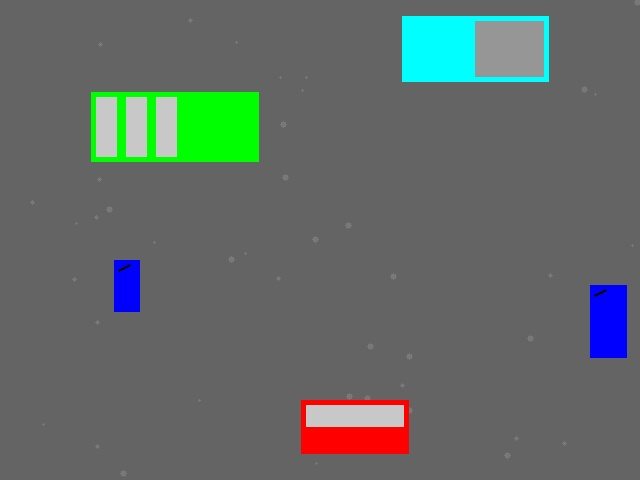bus: (91, 92, 258, 161)
car: (301, 400, 408, 453)
motorcycle: (590, 285, 626, 357), (114, 260, 139, 311)
truck: (402, 16, 548, 81)
